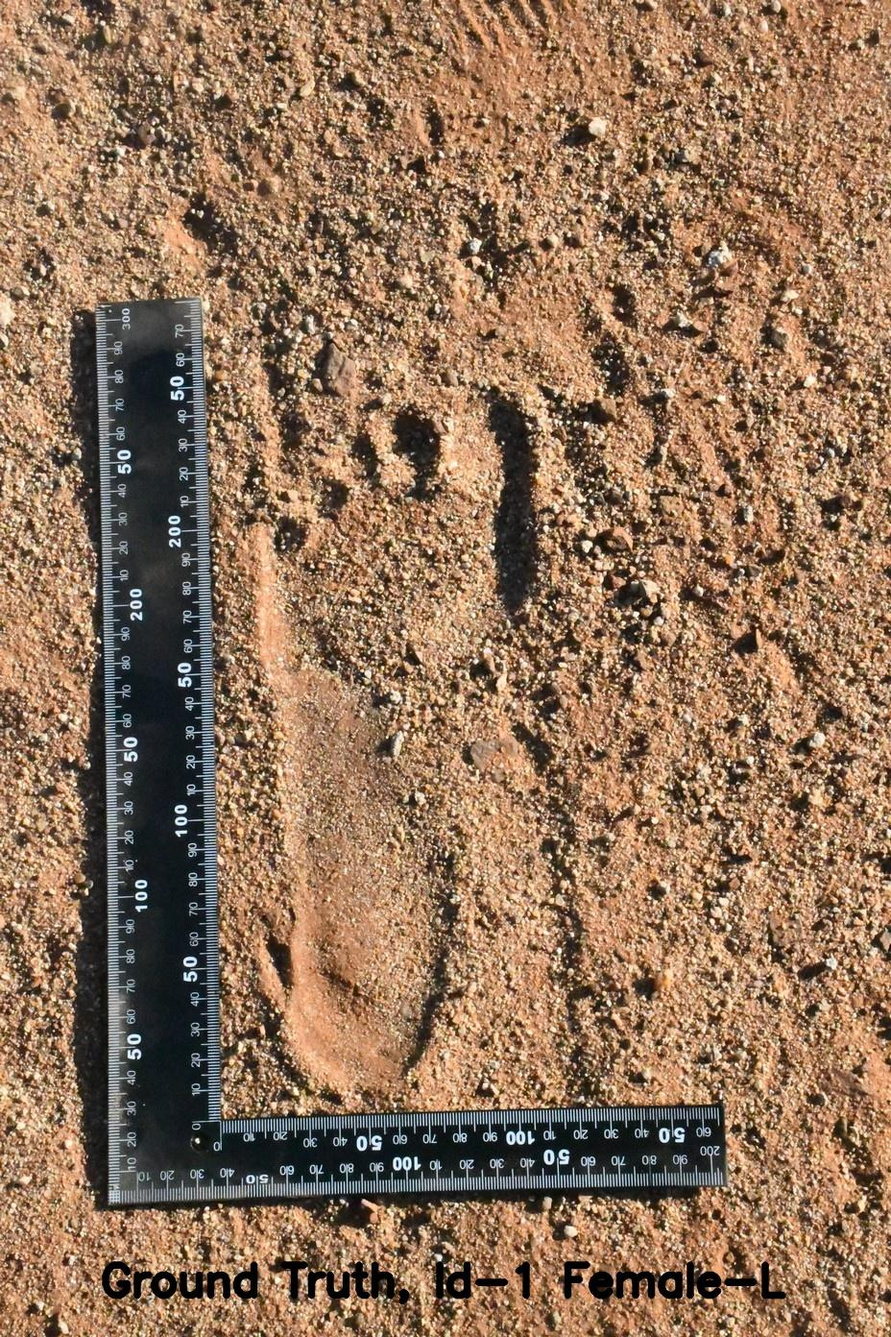human_foot_print: (224, 202, 692, 1143)
